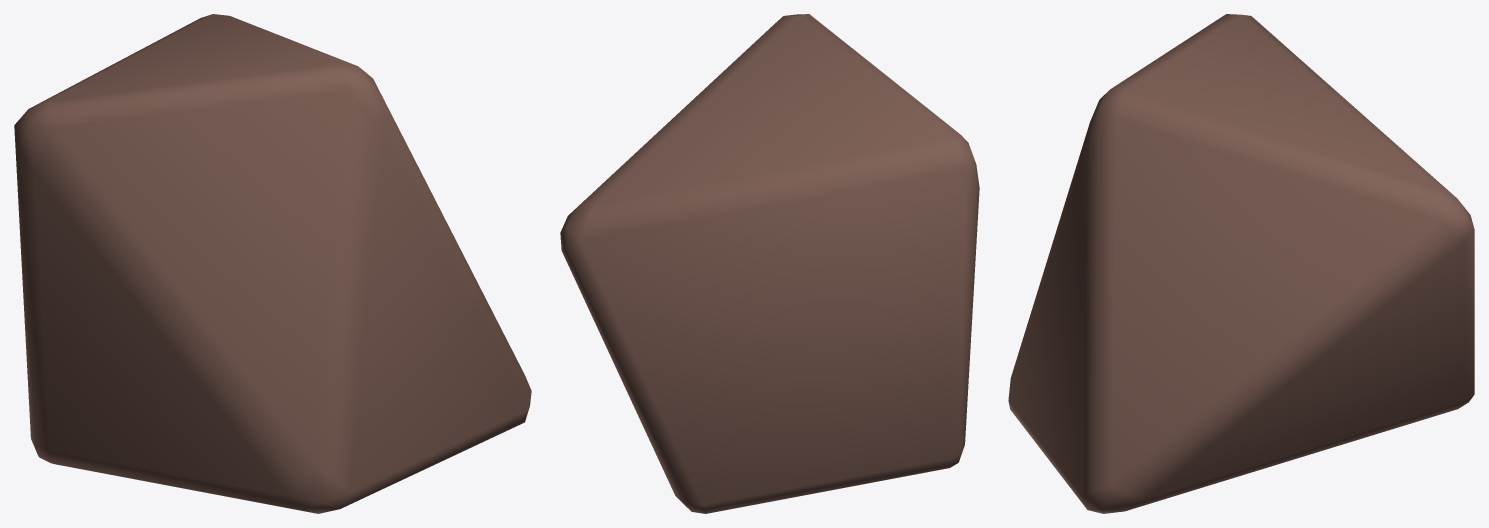
File: rock3.fbx
The picture shows the model from 3 angles, left to right: view 1: azimuth 30°, elevation 25°; view 2: azimuth 150°, elevation 25°; view 3: azimuth 270°, elevation 25°; orthographic projection. The views are drawn at different scales.
Parts seen in each view (by area): view 1: rock3; view 2: rock3; view 3: rock3.
Boxes of the visible parts, x1,y1,x2,y2 form: rock3: (14,14,531,513); rock3: (560,14,979,513); rock3: (1008,14,1474,513).
Size of the model in its own units: 1.05 by 0.8977 by 1.07.
